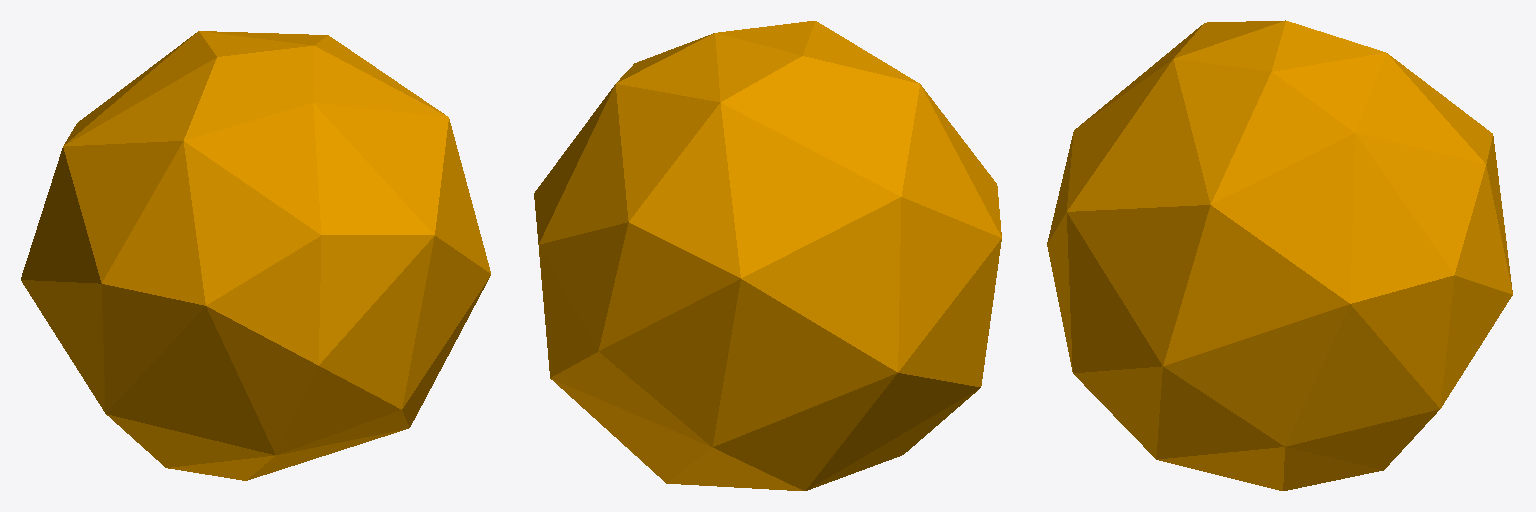
The robot description file, URDF, robot "bipyramid":
<?xml version='1.0' encoding='UTF-8'?>
<robot name="bipyramid">
  <link name="semantic_link">
    <inertial>
      <origin xyz="0.0 0.0 0.0" rpy="0.0 -0.0 0.0"/>
      <mass value="0.001"/>
      <inertia ixx="0.001" ixy="0.0" ixz="0.0" iyy="0.001" iyz="0.0" izz="0.001"/>
    </inertial>
    <visual name="semantic_base_link_visual">
      <geometry>
        <mesh filename="sphere_big_60.stl"/>
      </geometry>
    </visual>
    <collision name="semantic_base_link_collision">
      <geometry>
        <mesh filename="sphere_big_60.stl"/>
      </geometry>
    </collision>
  </link>
</robot>

--- Render facts (derived) ---
Views: 3 orthographic renders of the robot side by side, from view 1: azimuth 30°, elevation 25°; view 2: azimuth 150°, elevation 25°; view 3: azimuth 270°, elevation 25°.
Model bipyramid with 1 links and 0 joints (none), rooted at semantic_link, posed every joint at zero.
Visible links, largest first — view 1: semantic_link; view 2: semantic_link; view 3: semantic_link.
Link boxes in pixels (left/top/right/bottom): semantic_link: left=21, top=31, right=490, bottom=480; semantic_link: left=534, top=21, right=1001, bottom=490; semantic_link: left=1047, top=20, right=1512, bottom=490.
Size in the robot's own frame: 2.9 by 2.98 by 3 metres.
Meshes: 1 distinct files referenced, 1 mesh visuals loaded (1 binary STL).